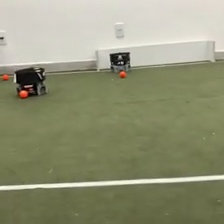ball: (18, 88, 29, 99), (2, 72, 10, 81), (119, 70, 126, 79)
goal: (93, 38, 217, 73)
robot: (13, 64, 49, 97), (108, 50, 133, 73)
